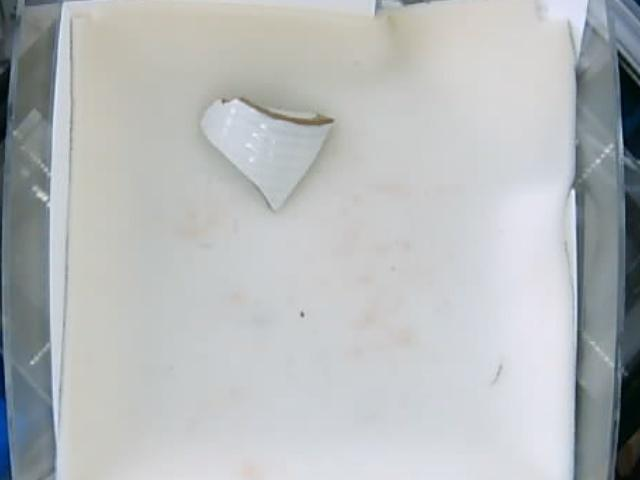China: (203, 95, 336, 211)
